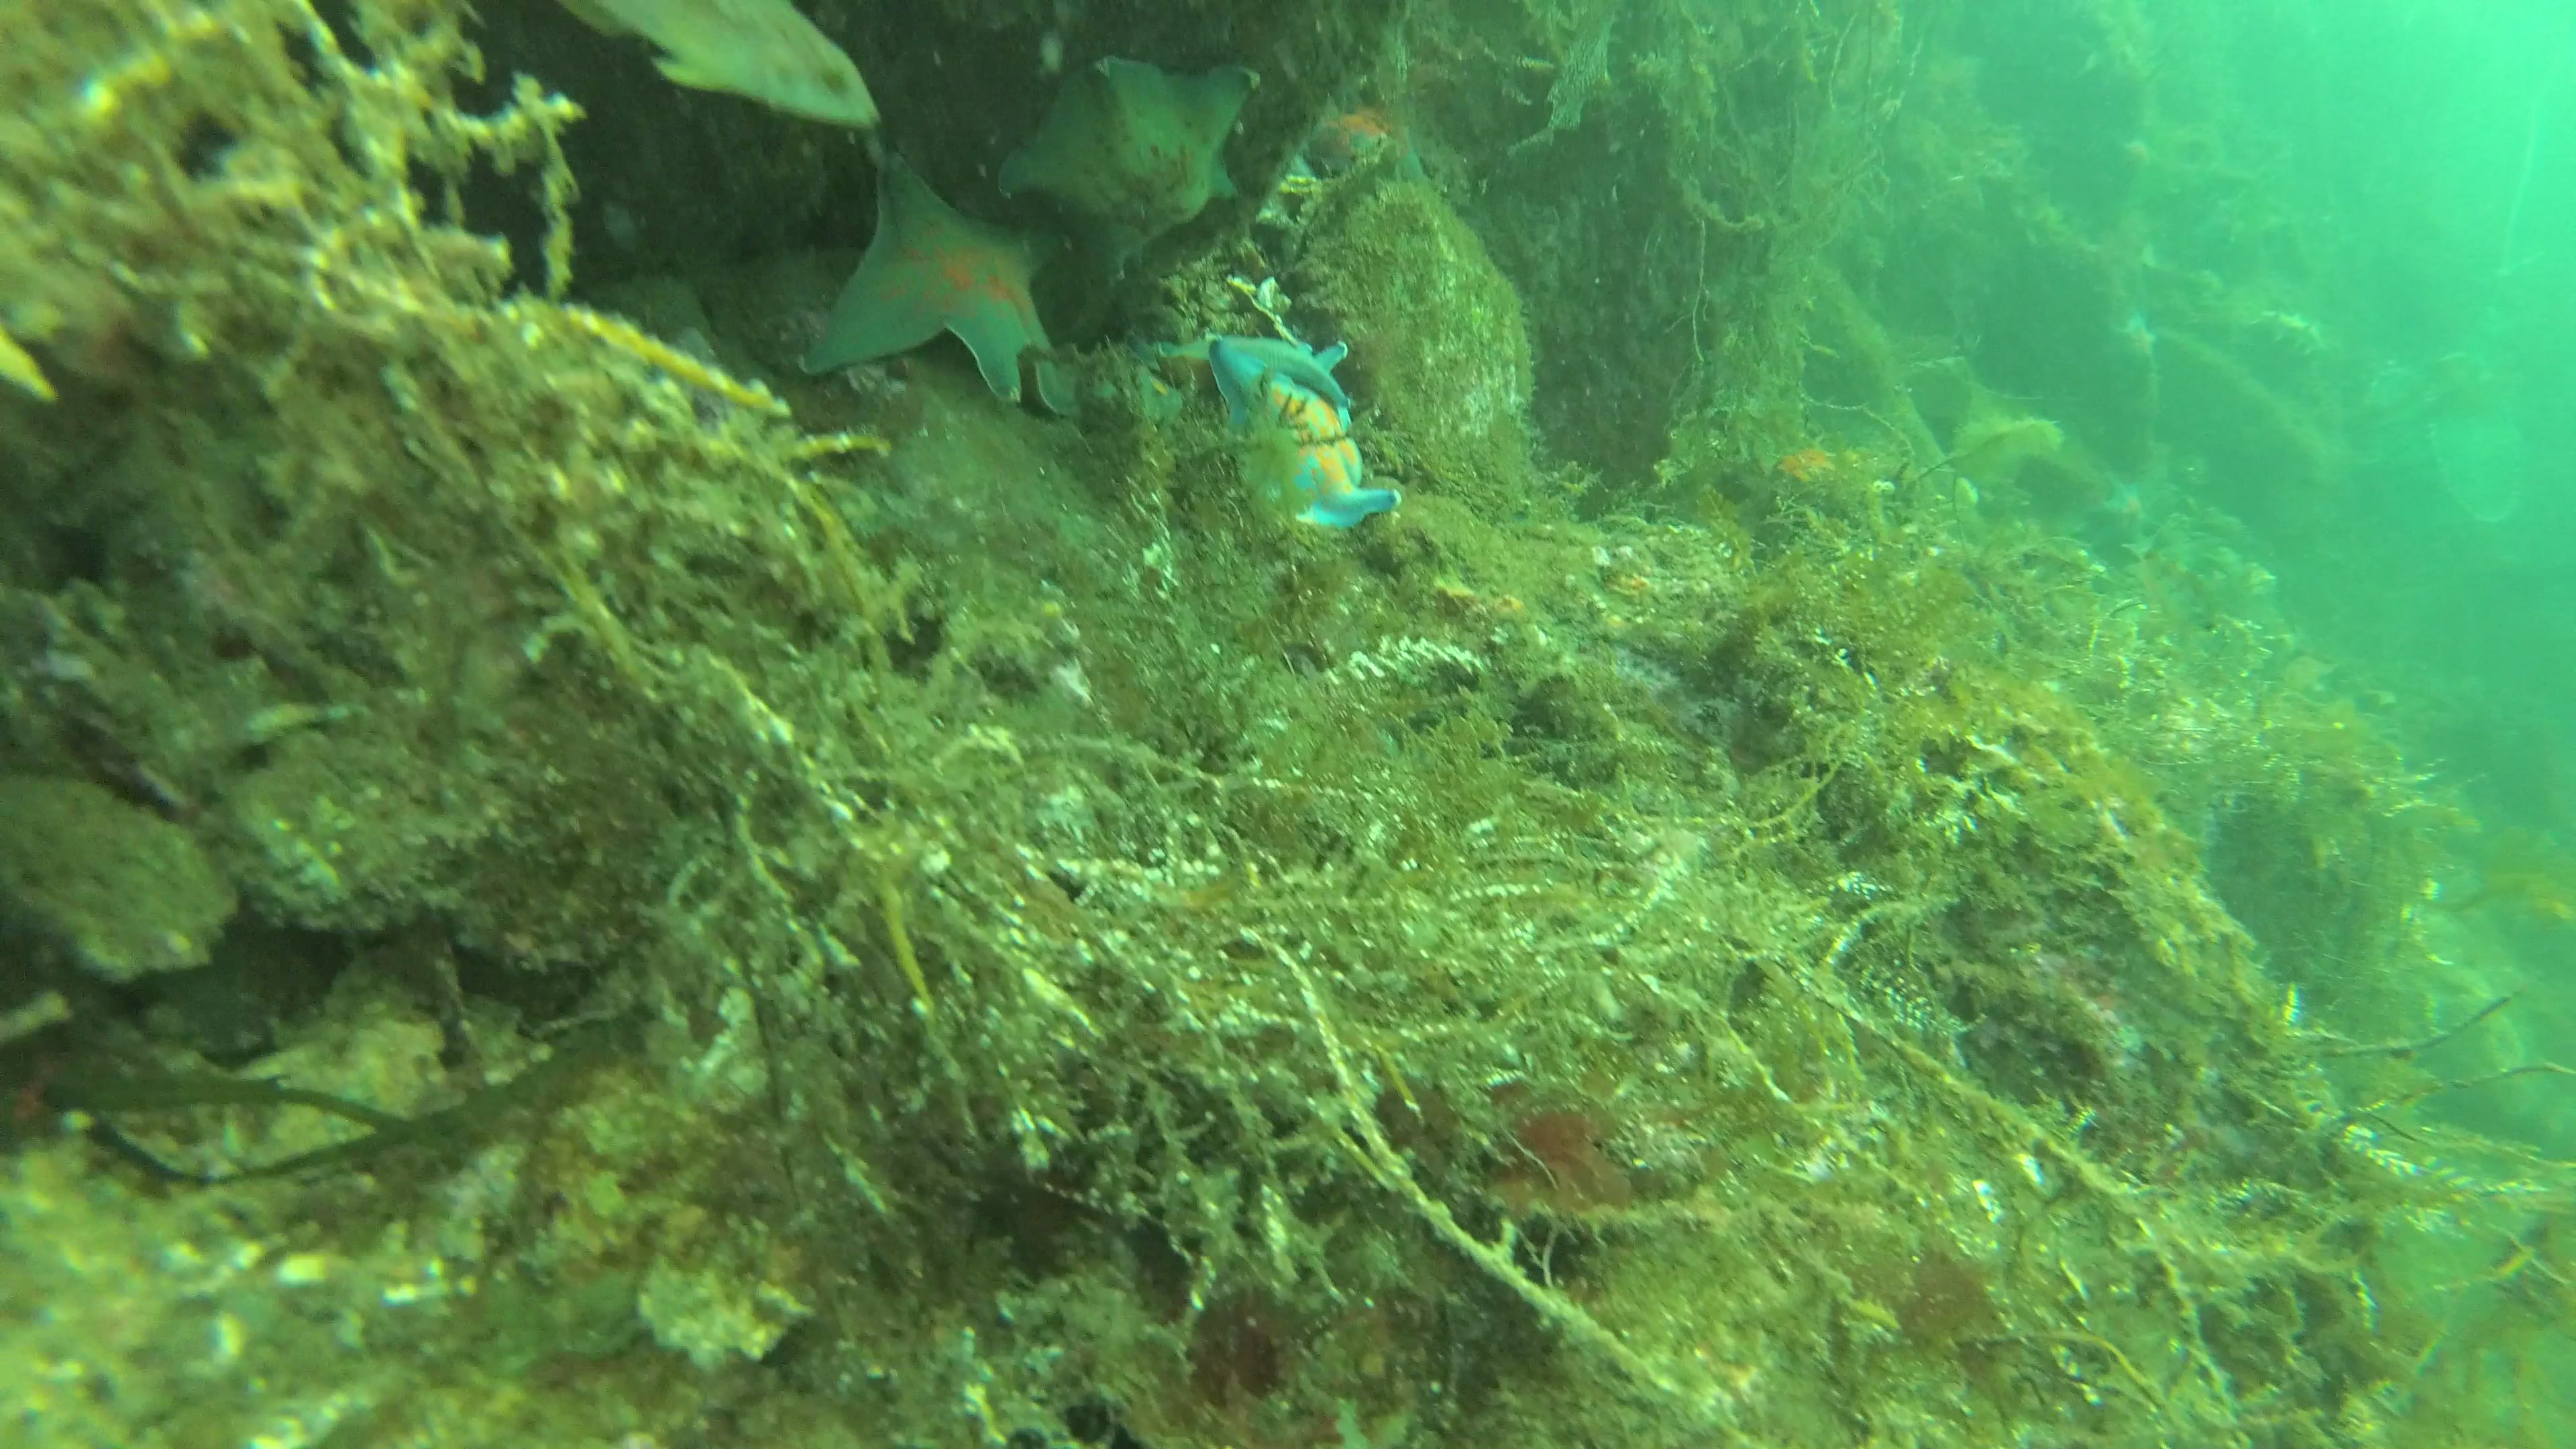starfish: (810, 152, 1088, 421), (996, 55, 1258, 278), (1208, 333, 1403, 527), (1161, 336, 1350, 426), (1309, 64, 1430, 202), (1035, 329, 1185, 425), (2098, 474, 2155, 538), (2116, 303, 2167, 372)
